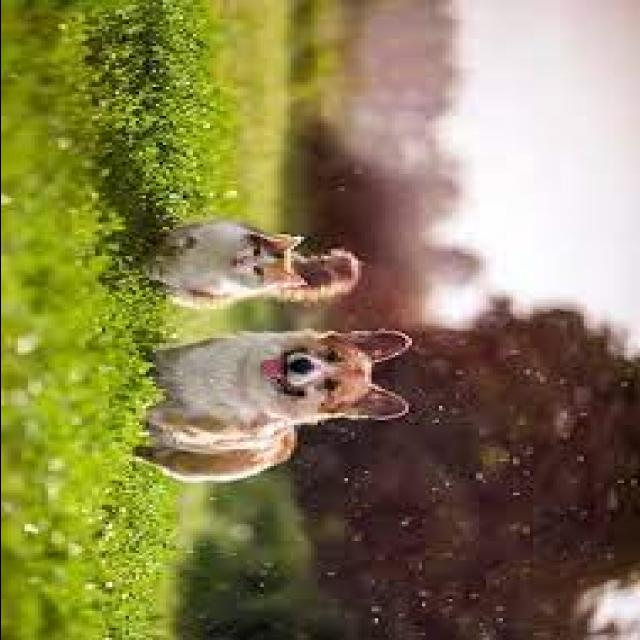cat: (134, 218, 366, 310)
dog: (118, 322, 418, 492)
